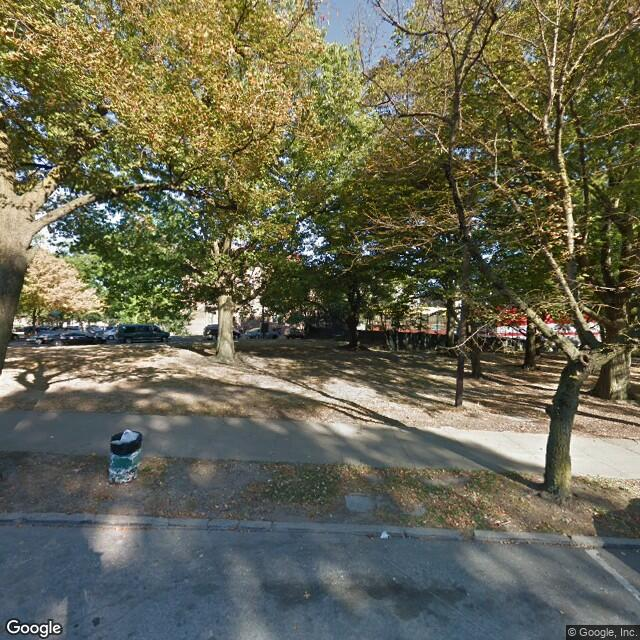litter: (376, 529, 394, 540), (45, 432, 55, 440), (387, 574, 398, 580), (197, 551, 205, 559), (558, 609, 566, 616), (265, 476, 272, 481)
